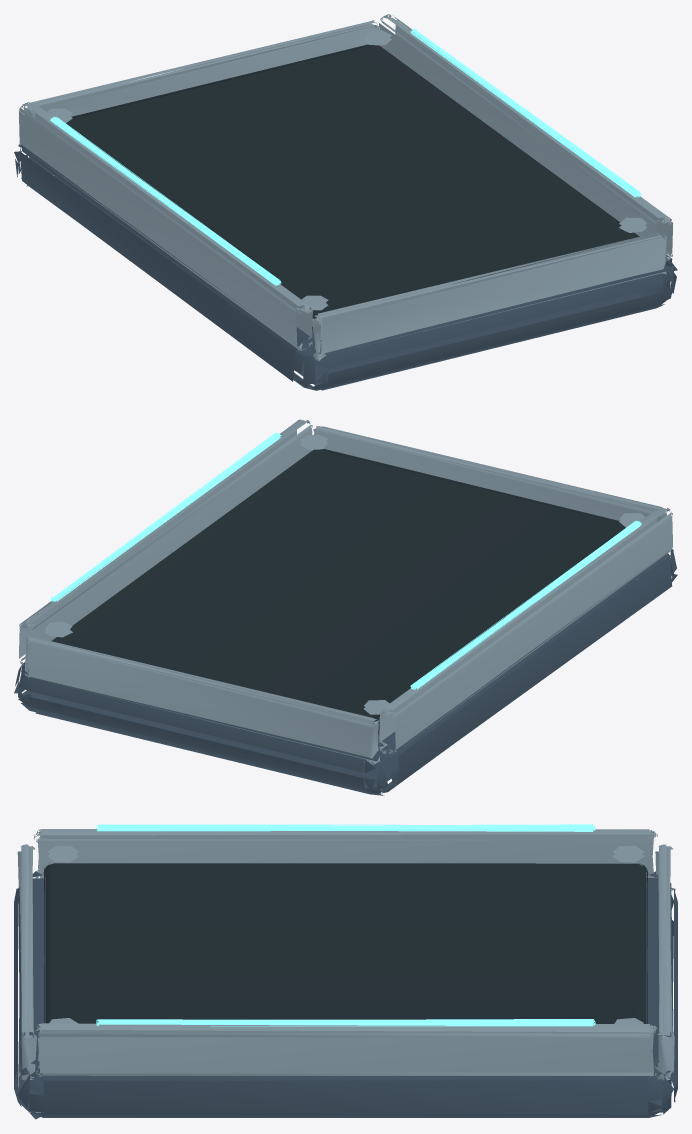
Rendered from reward_cradle.glb.
3 views of the same model, one above another, from view 1: azimuth 30°, elevation 25°; view 2: azimuth 150°, elevation 25°; view 3: azimuth 270°, elevation 25° (orthographic). The views are drawn at different scales.
Parts seen in each view (by area): view 1: Recessed reward bed, Raised alloy rail, Reward cradle base, Light guide; view 2: Recessed reward bed, Raised alloy rail, Reward cradle base, Light guide; view 3: Recessed reward bed, Raised alloy rail, Reward cradle base, Light guide.
Boxes of the visible parts, x1=… form: Recessed reward bed: x1=66, y1=44, x2=639, y2=329; Raised alloy rail: x1=19, y1=14, x2=672, y2=361; Reward cradle base: x1=14, y1=144, x2=677, y2=390; Light guide: x1=50, y1=28, x2=641, y2=285; Recessed reward bed: x1=51, y1=449, x2=625, y2=735; Raised alloy rail: x1=19, y1=419, x2=672, y2=765; Reward cradle base: x1=14, y1=549, x2=677, y2=795; Light guide: x1=50, y1=432, x2=641, y2=689; Recessed reward bed: x1=43, y1=863, x2=648, y2=1023; Raised alloy rail: x1=17, y1=829, x2=674, y2=1080; Reward cradle base: x1=14, y1=871, x2=677, y2=1119; Light guide: x1=96, y1=824, x2=595, y2=1026.
Size of the model in its own units: 1.48 by 0.344 by 2.02.
